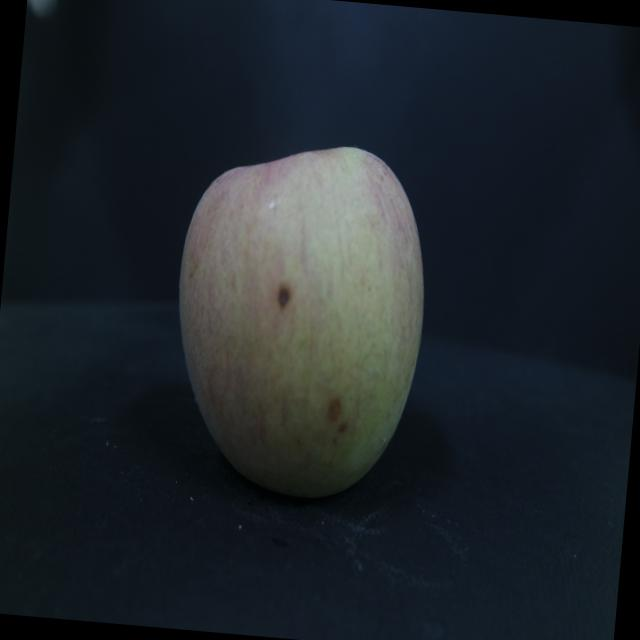rotten: (152, 129, 446, 515)
